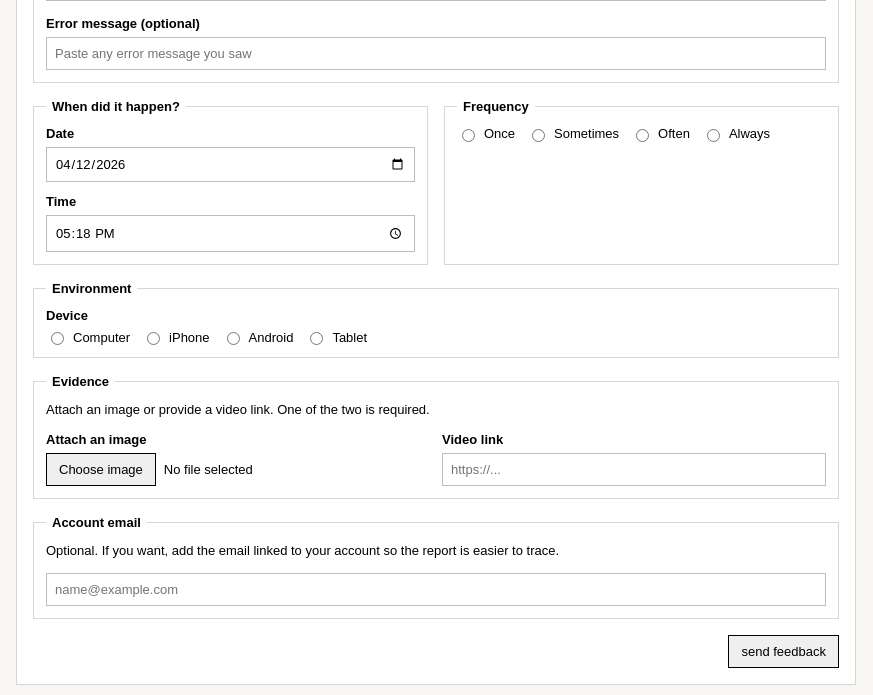
Test: FeedbackPage › validates required fields before submitting
The width and height of the screenshot is (873, 695).
(page scrolled)
What coordinates should you click on to do the following:
click the button "send feedback"
I would click on:
 (784, 651)
Its box is [728,635,839,668].
(page scrolled)
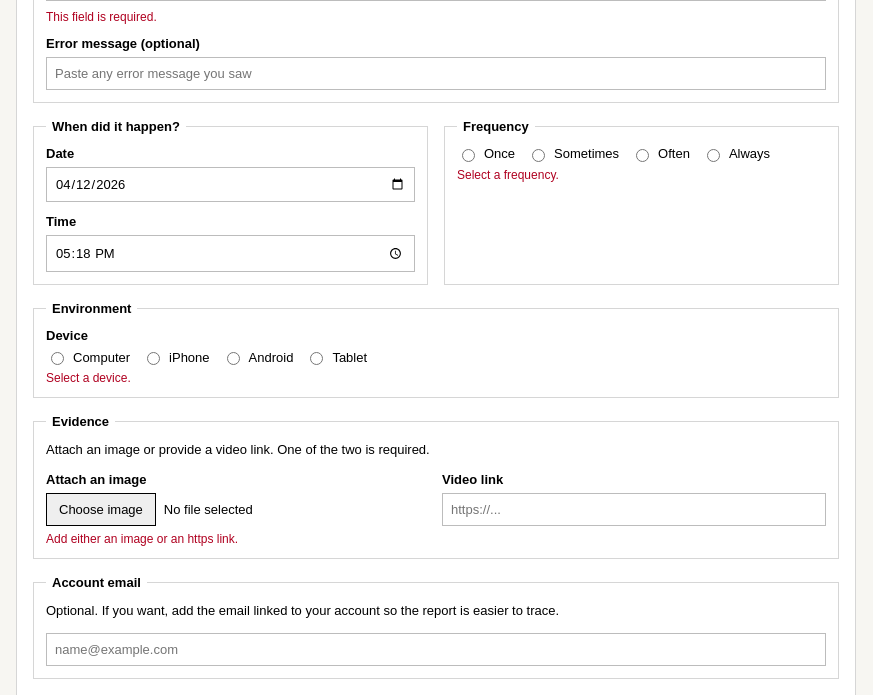
Result: the text "Add either an image or an https link." is shown at [46,532,238,546]
